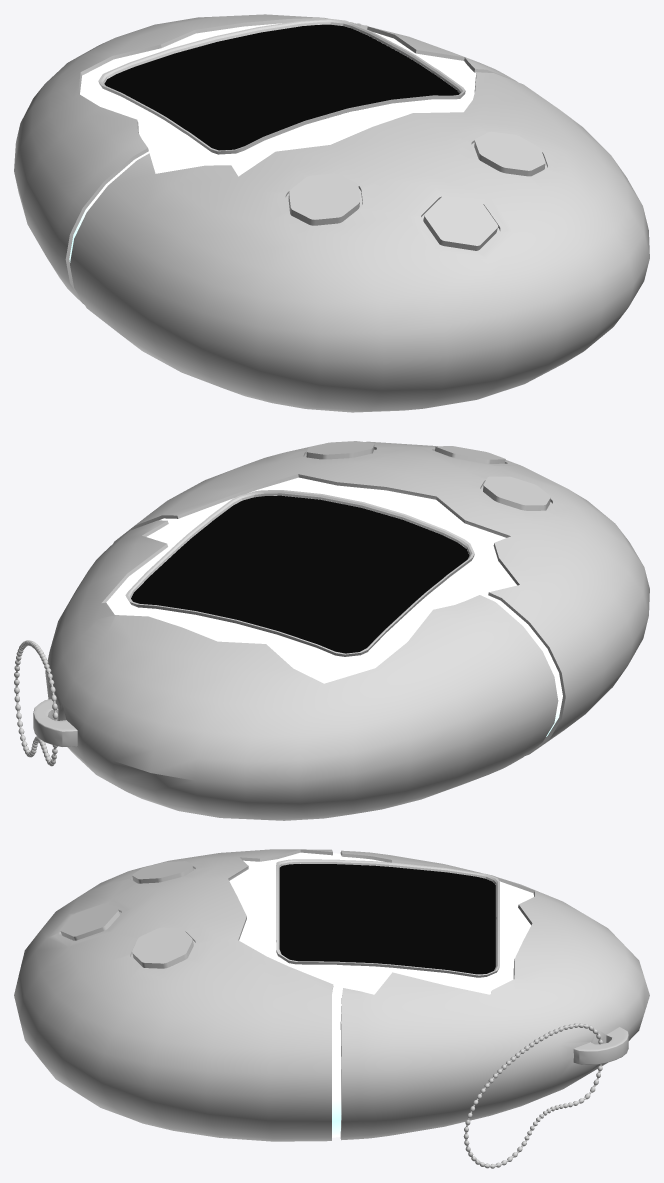
The model's file is amagochi.glb.
3 views of the same model, one above another, from view 1: azimuth 30°, elevation 25°; view 2: azimuth 150°, elevation 25°; view 3: azimuth 270°, elevation 25° (orthographic). The views are drawn at different scales.
Parts seen in each view (by area): view 1: body, screen, crack, leftButton, mainButton, rightButton; view 2: body, screen, crack, leftButton, chain, rightButton, mainButton; view 3: body, screen, crack, rightButton, chain, mainButton, leftButton.
Part boxes in pixels (x1,y1,x2,y2): body: (14, 14, 649, 412); screen: (104, 24, 459, 150); crack: (69, 23, 476, 262); leftButton: (288, 173, 360, 225); mainButton: (423, 195, 498, 250); rightButton: (474, 131, 545, 176); body: (33, 441, 649, 820); screen: (131, 495, 469, 653); crack: (106, 477, 562, 736); leftButton: (483, 476, 550, 510); chain: (14, 640, 58, 766); rightButton: (306, 441, 374, 459); mainButton: (435, 446, 505, 463); body: (14, 849, 649, 1141); screen: (279, 864, 495, 974); crack: (229, 852, 533, 1137); rightButton: (132, 927, 193, 968); chain: (463, 1023, 603, 1168); mainButton: (60, 903, 120, 940); leftButton: (132, 861, 193, 883).
Size of the model in its own units: 1.51 by 0.6994 by 2.
